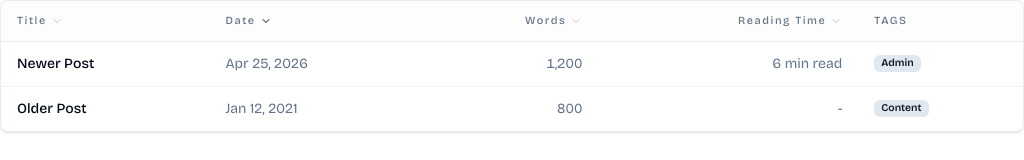
Test: PostsTable › sorts from keyboard-operable header buttons
Click the button with aria-label "Sort by title".
click(40, 21)  # box [17,13,63,28]
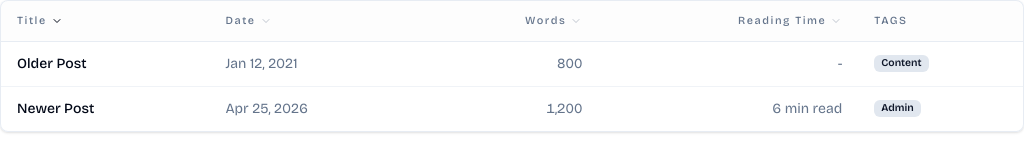
Check: the button with aria-label "Sort by title, currently descending" is shown
Click the button with aria-label "Sort by title, currently descending".
click(40, 21)  # box [17,13,63,28]
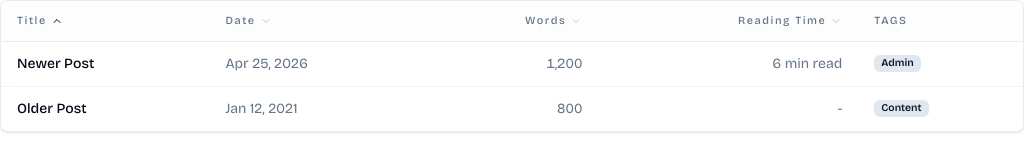
Check: the button with aria-label "Sort by title, currently ascending" is shown, box [17,13,63,28]
